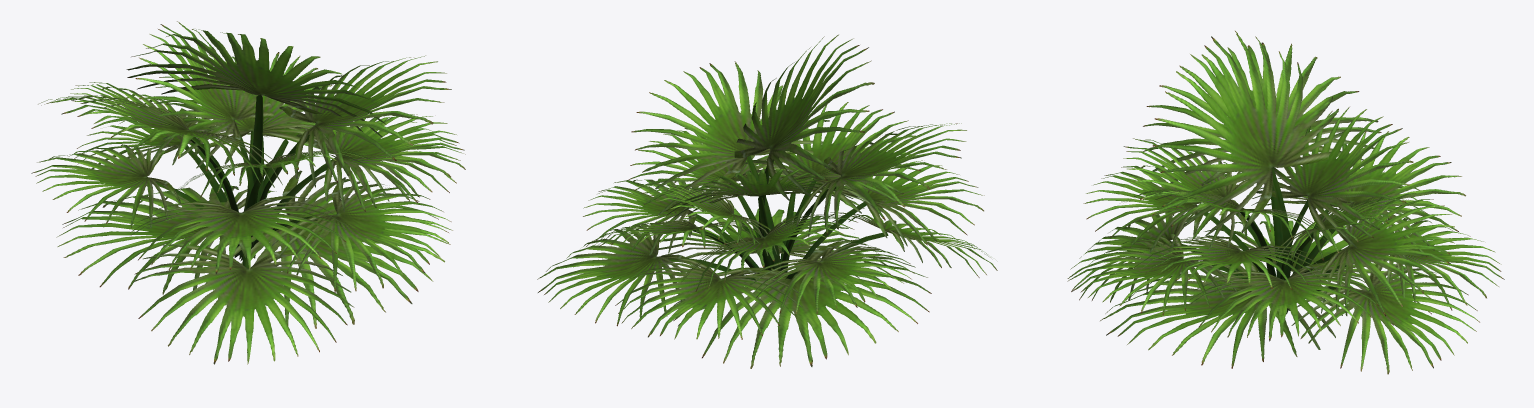
Rendered from fanpalm1.FBX.
The picture shows the model from 3 angles, left to right: view 1: azimuth 30°, elevation 25°; view 2: azimuth 150°, elevation 25°; view 3: azimuth 270°, elevation 25°; orthographic projection. The views are drawn at different scales.
Visible parts, largest first — view 1: fanpalm_base; view 2: fanpalm_base; view 3: fanpalm_base.
Part boxes in pixels (left/top/right/bottom): fanpalm_base: left=31, top=21, right=465, bottom=364; fanpalm_base: left=537, top=34, right=997, bottom=368; fanpalm_base: left=1067, top=31, right=1504, bottom=374.
Size of the model in its own units: 122 by 79.58 by 126.
1 material, 1 textured.
